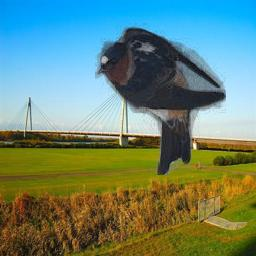Swallow: (96, 23, 227, 175)
